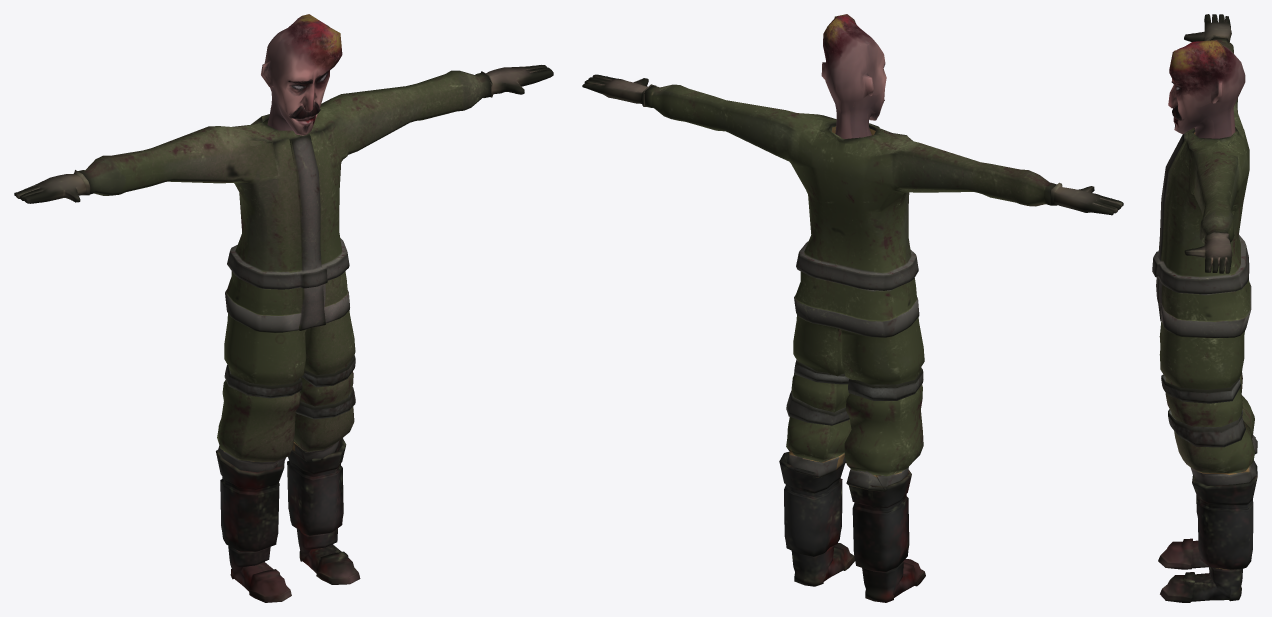
3 views of the same model, side by side, from view 1: azimuth 30°, elevation 25°; view 2: azimuth 150°, elevation 25°; view 3: azimuth 270°, elevation 25° (orthographic).
Visible parts, largest first — view 1: Cube.001, Cube.006, Cube; view 2: Cube.001, Cube.006, Cube; view 3: Cube.001, Cube.006, Cube.
Boxes of the visible parts, box(x1,y1,x2,y2) form: Cube.001: box(216, 271, 360, 602); Cube.006: box(14, 65, 553, 289); Cube: box(261, 14, 342, 135); Cube.001: box(779, 271, 925, 602); Cube.006: box(582, 74, 1123, 290); Cube: box(821, 14, 886, 138); Cube.001: box(1156, 277, 1257, 602); Cube.006: box(1152, 14, 1249, 294); Cube: box(1168, 40, 1245, 138).
Size of the model in its own units: 1.98 by 1.98 by 0.3456.
